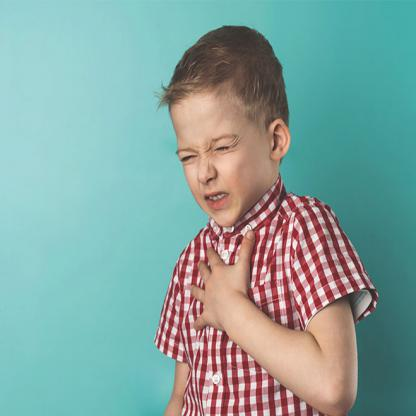pain: (174, 127, 244, 170)
